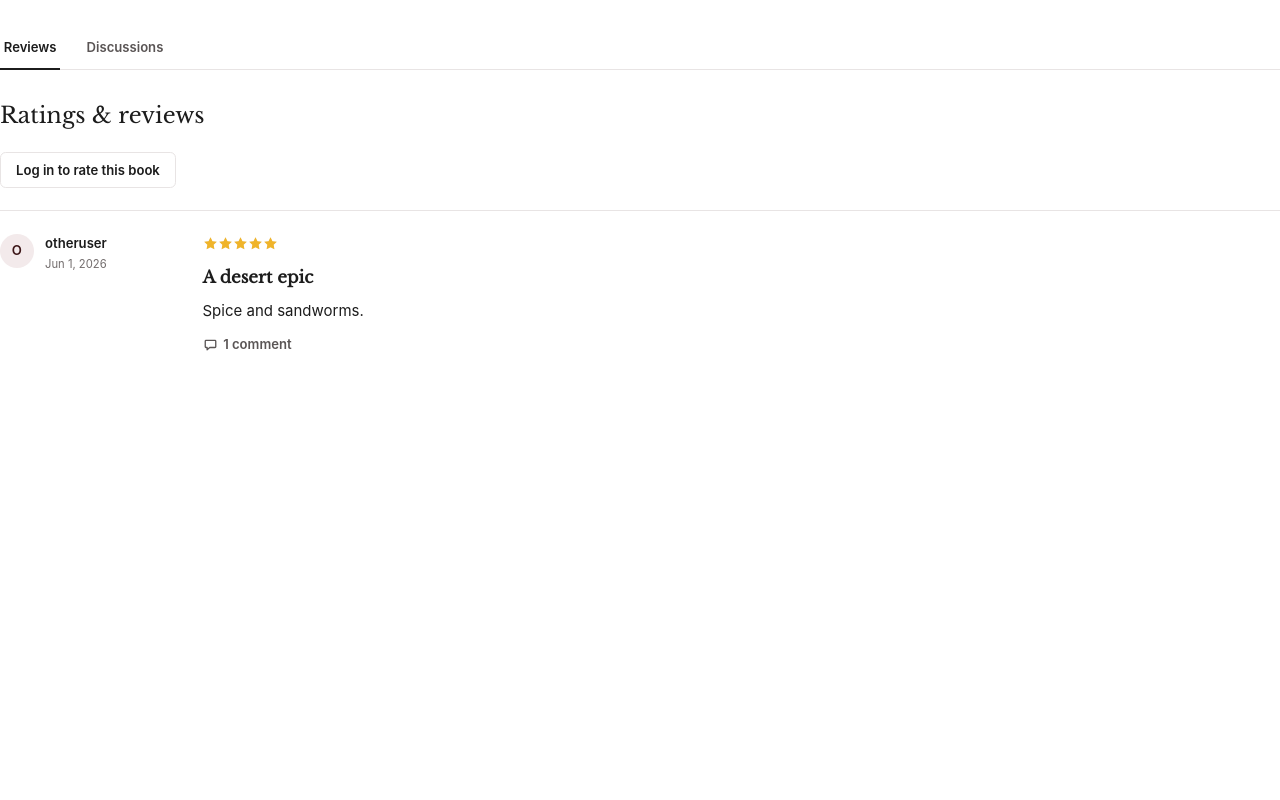
Scenario: BookActivity › should open the review thread in the window from the comment count
Click the button "1 comment" at (247,344), box [202,335,292,354]
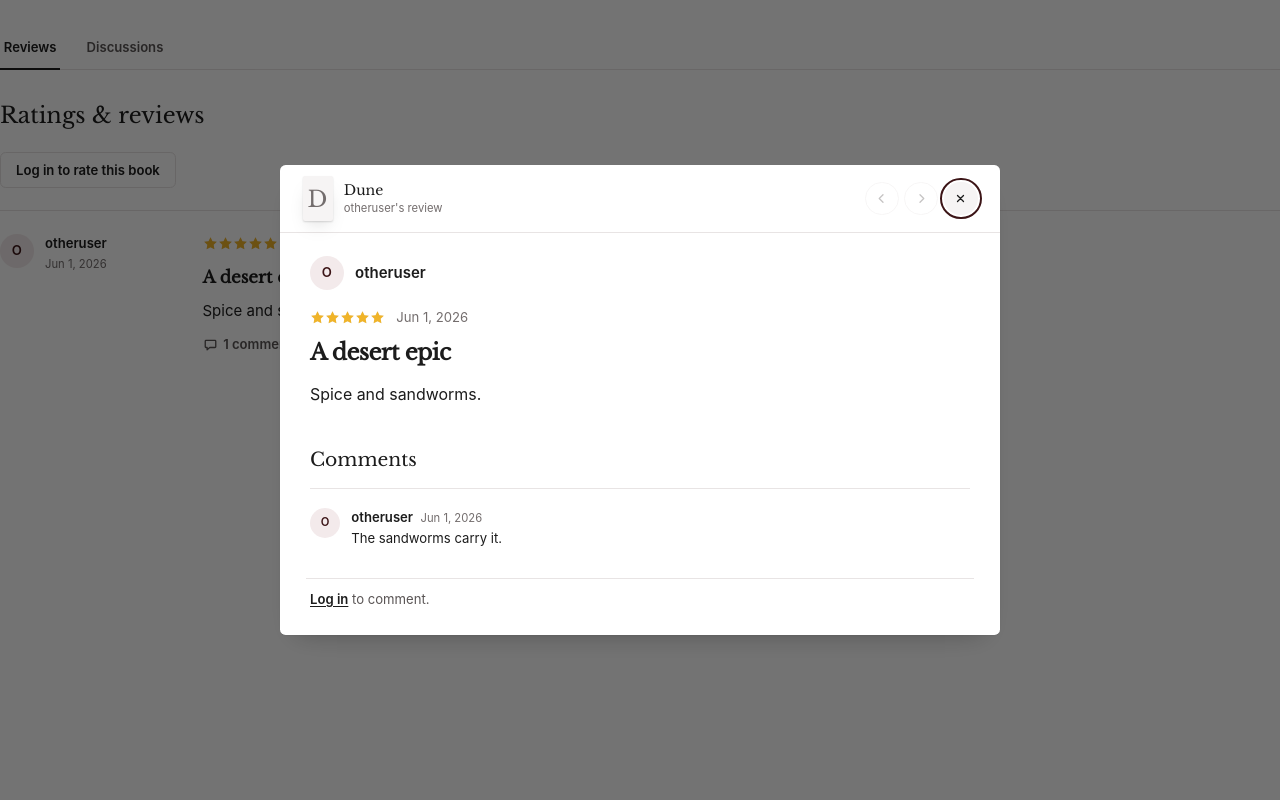
Expected: the text "The sandworms carry it." is shown, [351,530,502,546]
